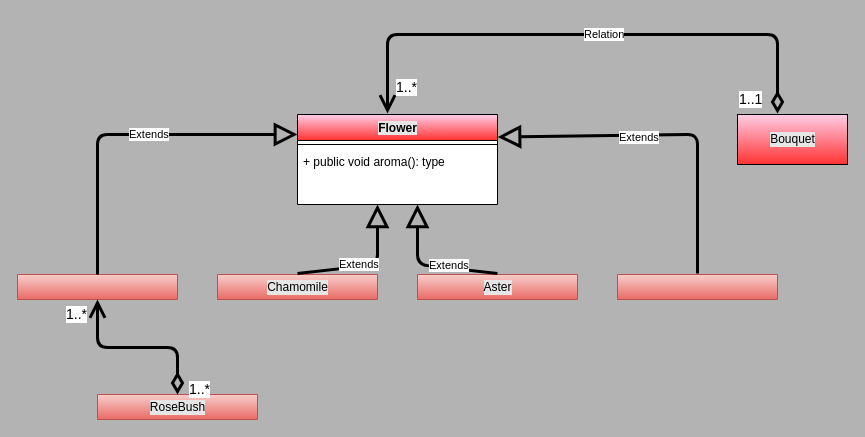
This 865x437 diagram has some shape labels left out. The centre of each missing label's shape, as x and y in pixels:
"Rose" goes at (x=97, y=287).
"Tulip" goes at (x=697, y=287).
